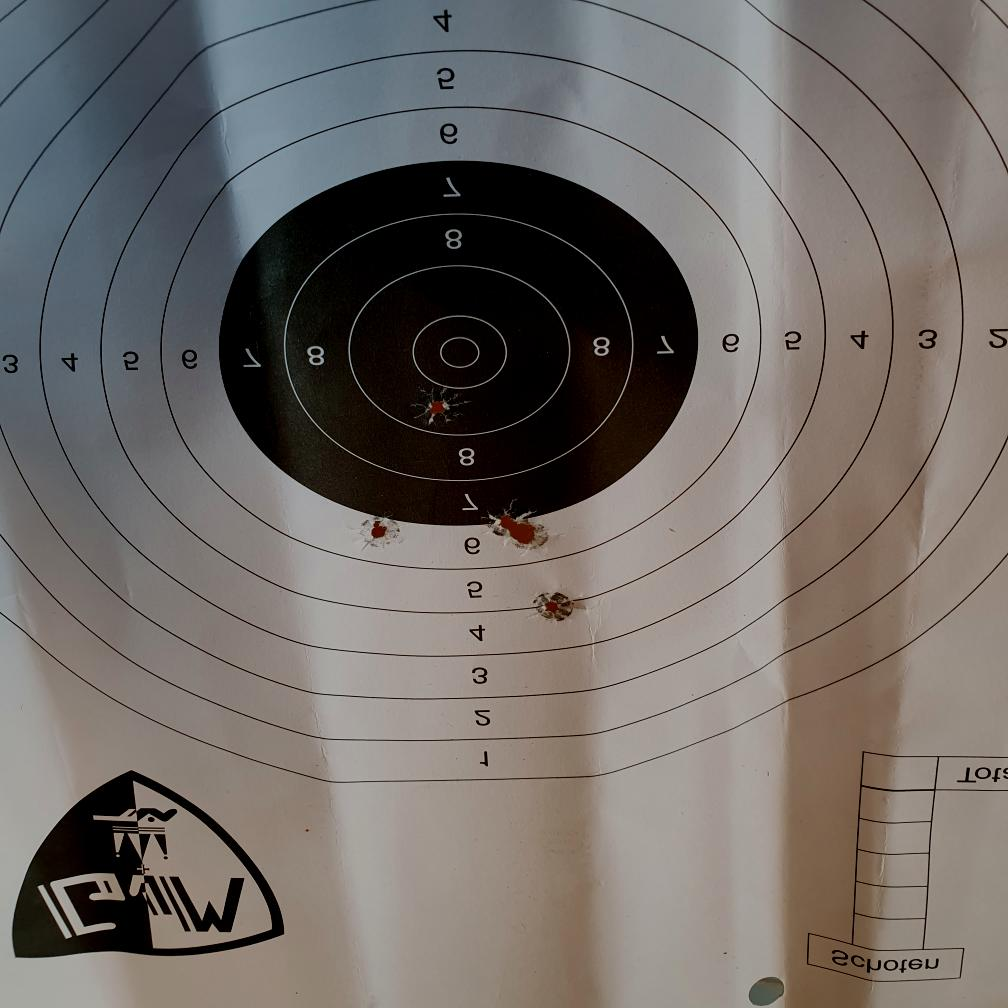5: (530, 591, 576, 626)
6: (509, 519, 554, 556)
7: (354, 514, 400, 550), (482, 500, 524, 533)
9: (406, 386, 467, 424)
Target: (0, 0, 1008, 786)
black_contour: (222, 160, 700, 527)
